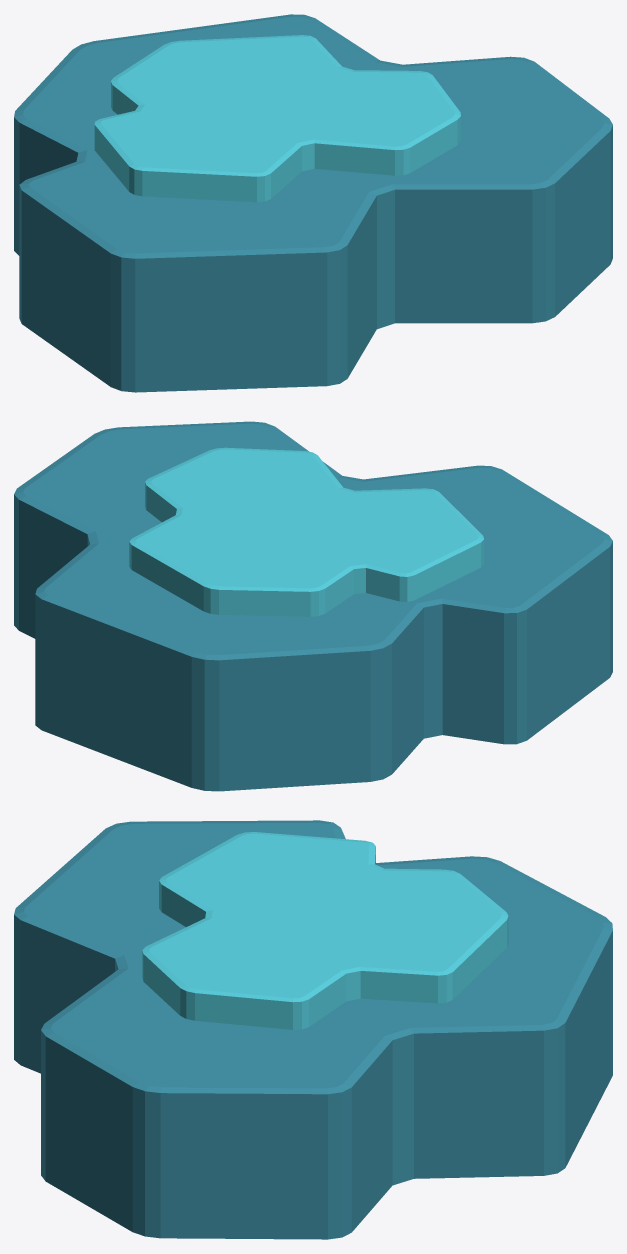
The model's file is diamond_viewport.fbx.
3 views of the same model, one above another, from view 1: azimuth 30°, elevation 25°; view 2: azimuth 150°, elevation 25°; view 3: azimuth 270°, elevation 25° (orthographic). The views are drawn at different scales.
Parts seen in each view (by area): view 1: diamond_viewport_body; view 2: diamond_viewport_body; view 3: diamond_viewport_body.
Part boxes in pixels (box(x1,y1,x2,y2)): diamond_viewport_body: box(14, 14, 612, 392); diamond_viewport_body: box(14, 421, 612, 791); diamond_viewport_body: box(14, 820, 612, 1239).
Size of the model in its own units: 0.7989 by 0.2391 by 0.7386.
Materials: 1 (1 with a texture image).
